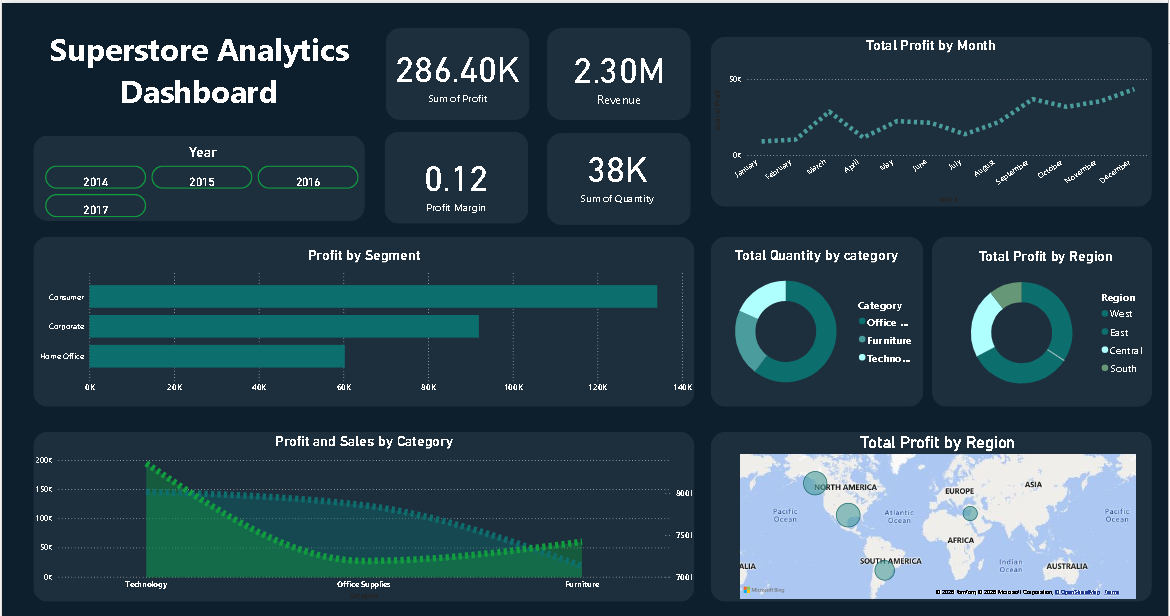

Layout of this report page (visuals, bound fields, positions):
{"tool":"powerbi","page":{"name":"Page 1","canvas":[1800,950],"ordinal":0},"visuals":[{"type":"shape","box":[1094.1,661.9,681.2,262.4],"z":0},{"type":"shape","box":[1435.7,360.9,339.6,262.4],"z":1000},{"type":"shape","box":[1094.1,52.1,681.2,262.4],"z":2000},{"type":"shape","box":[1094.1,360.9,328,262.4],"z":3000},{"type":"shape","box":[1522.5,360.9,252.8,262.4],"z":4000},{"type":"shape","box":[48.2,661.9,1020.8,262.4],"z":5000},{"type":"shape","box":[48.2,360.9,1020.8,262.4],"z":6000},{"type":"map","title":"Total Profit by Region","fields":{"Category":["dim_customers.Region"],"Size":["Sum(Fact_sales.Profit)"]},"box":[1134,664,620,262],"z":7000},{"type":"donutChart","title":"Total Quantity by category","fields":{"Y":["Sum(Fact_sales.Quantity)"],"Category":["dim_products.Category","dim_customers.Region"]},"box":[1094,376,328,234],"z":8000},{"type":"donutChart","title":"Total Profit by Region","fields":{"Y":["Sum(Fact_sales.Profit)"],"Category":["dim_customers.Region"]},"box":[1448,378,328,234],"z":9000},{"type":"barChart","title":" Profit by Segment","fields":{"Y":["Sum(Fact_sales.Profit)"],"Category":["dim_customers.Segment"]},"box":[48,376,1022,236],"z":10000},{"type":"lineChart","title":"Profit and Sales by Category","fields":{"Y2":["Sum(Fact_sales.Sales)"],"Category":["dim_products.Category"],"Y":["Sum(Fact_sales.Profit)"]},"box":[48,664,1022,262],"z":11000},{"type":"lineChart","title":"Total Profit by Month","fields":{"Category":["Fact_sales.Order Date.Variation.Date Hierarchy.Month"],"Y":["Sum(Fact_sales.Profit)"]},"box":[1094,52,680,262],"z":12000},{"type":"shape","box":[592,38.8,222,142],"z":13000},{"type":"shape","box":[842,38.8,222,142],"z":14000},{"type":"shape","box":[590.4,199.2,222,142],"z":15000},{"type":"shape","box":[840.4,201.2,222,142],"z":16000},{"type":"card","fields":{"Values":["Fact_sales.Revenue"]},"box":[856,34.8,192,150],"z":17000},{"type":"card","fields":{"Values":["Sum(Fact_sales.Quantity)"]},"box":[848,190,206,146],"z":18000},{"type":"card","fields":{"Values":["Sum(Fact_sales.Profit)"]},"box":[600,34.8,206,146],"z":19000},{"type":"card","fields":{"Values":["Fact_sales.Profit Margin"]},"box":[598,202,206,146],"z":20000},{"type":"shape","box":[48,204,512,132],"z":20001},{"type":"advancedSlicerVisual","fields":{"Values":["Fact_sales.Order Date.Variation.Date Hierarchy.Year"]},"box":[62,218,496,118],"z":20002},{"type":"textbox","box":[48,32,512,148],"z":20003}]}

Visuals, with their boxes in screenshot pixels (x1, y1, x2, y2), scaled from the page's 1800x950 canvas onto the 1170x616 screenshot:
shape: x1=711, y1=429, x2=1154, y2=599
shape: x1=933, y1=234, x2=1154, y2=404
shape: x1=711, y1=34, x2=1154, y2=204
shape: x1=711, y1=234, x2=924, y2=404
shape: x1=990, y1=234, x2=1154, y2=404
shape: x1=31, y1=429, x2=695, y2=599
shape: x1=31, y1=234, x2=695, y2=404
"Total Profit by Region" map: x1=737, y1=431, x2=1140, y2=600
"Total Quantity by category" donutChart: x1=711, y1=244, x2=924, y2=396
"Total Profit by Region" donutChart: x1=941, y1=245, x2=1154, y2=397
" Profit by Segment" barChart: x1=31, y1=244, x2=696, y2=397
"Profit and Sales by Category" lineChart: x1=31, y1=431, x2=696, y2=600
"Total Profit by Month" lineChart: x1=711, y1=34, x2=1153, y2=204
shape: x1=385, y1=25, x2=529, y2=117
shape: x1=547, y1=25, x2=692, y2=117
shape: x1=384, y1=129, x2=528, y2=221
shape: x1=546, y1=130, x2=691, y2=223
card - Fact_sales.Revenue: x1=556, y1=23, x2=681, y2=120
card - Sum(Fact_sales.Quantity): x1=551, y1=123, x2=685, y2=218
card - Sum(Fact_sales.Profit): x1=390, y1=23, x2=524, y2=117
card - Fact_sales.Profit Margin: x1=389, y1=131, x2=523, y2=226
shape: x1=31, y1=132, x2=364, y2=218
advancedSlicerVisual - Fact_sales.Order Date.Variation.Date Hierarchy.Year: x1=40, y1=141, x2=363, y2=218
textbox: x1=31, y1=21, x2=364, y2=117
